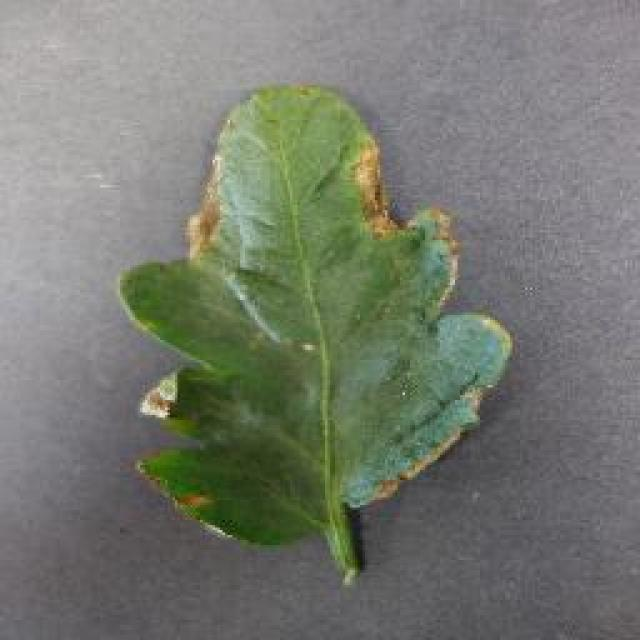Tomato bacterial spot leaf: (118, 74, 520, 558)
